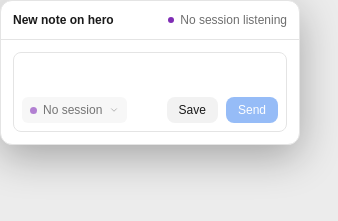
Test case: Composer › stays on the Note tool with the text and the error when a save fails
Type "Warmer sky" into the text box at (150, 79), box x1=22 y1=61 x2=278 y2=97
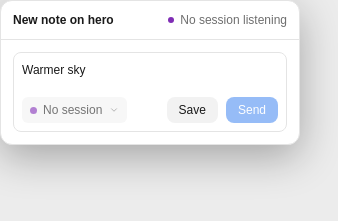
Click the button "Save" at (192, 110), box x1=167 y1=97 x2=218 y2=123
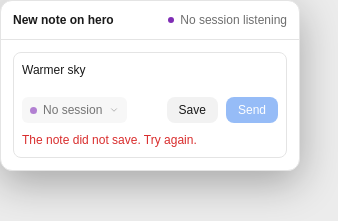
Result: the message "The note did not save. Try again." is shown at x1=22 y1=133 x2=197 y2=147
